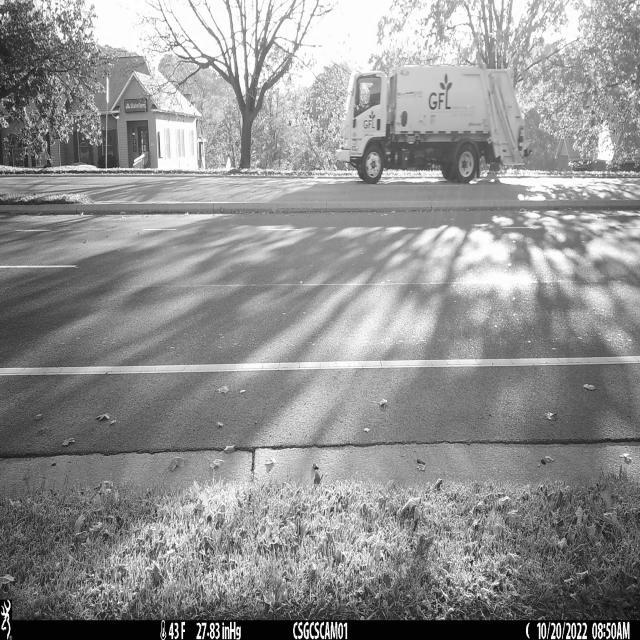Garbage Truck: (338, 64, 527, 184)
